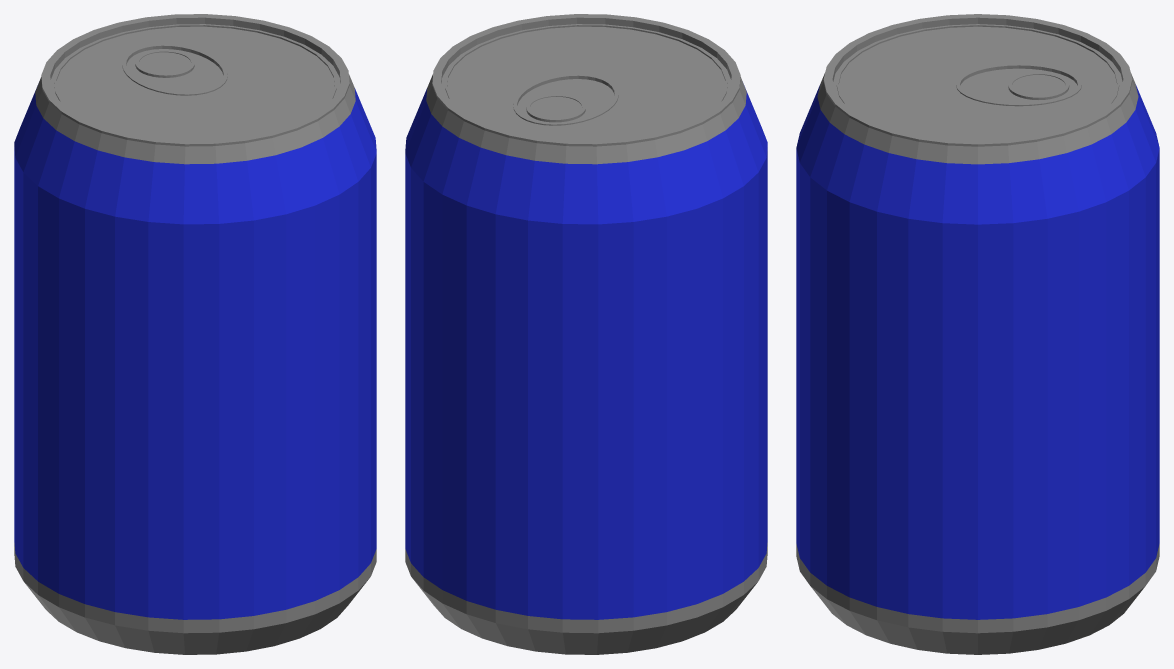
Rendered from blue_pop_can.fbx.
3 views of the same model, side by side, from view 1: azimuth 30°, elevation 25°; view 2: azimuth 150°, elevation 25°; view 3: azimuth 270°, elevation 25° (orthographic).
Parts seen in each view (by area): view 1: pop can blue; view 2: pop can blue; view 3: pop can blue.
Part boxes in pixels (left/top/right/bottom): pop can blue: left=14, top=14, right=376, bottom=654; pop can blue: left=405, top=14, right=767, bottom=654; pop can blue: left=796, top=14, right=1159, bottom=654.
Size of the model in its own units: 68.75 by 106 by 68.75.
